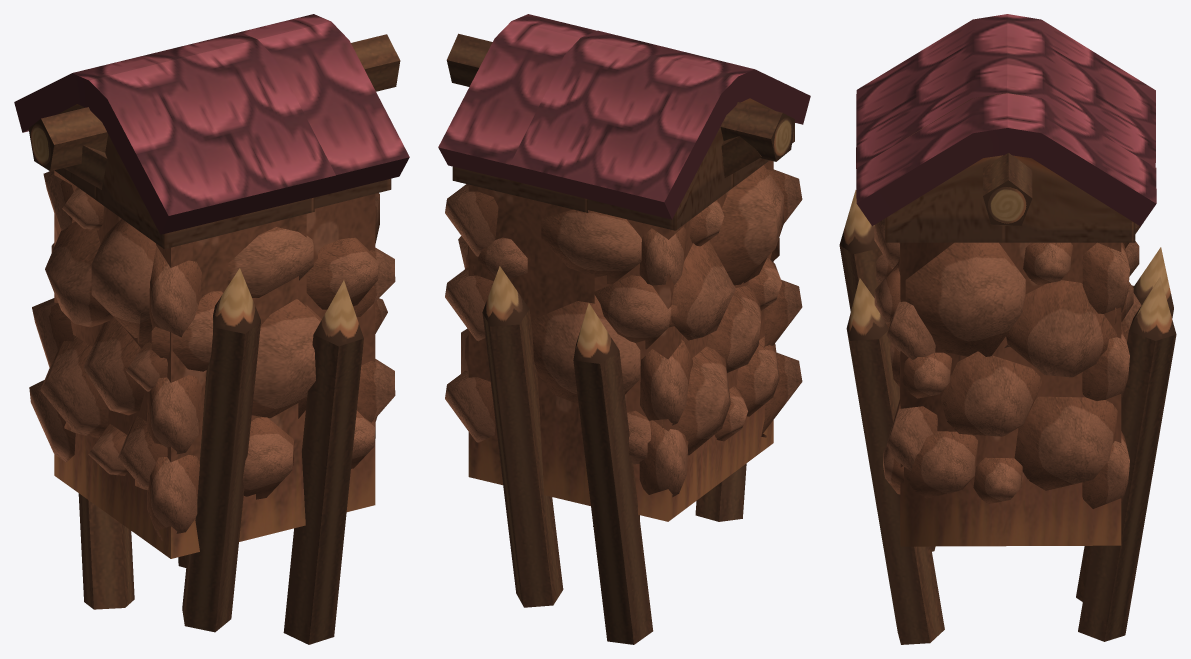
File: lvl3_1x1.fbx
3 renders of one model, left to right at view 1: azimuth 30°, elevation 25°; view 2: azimuth 150°, elevation 25°; view 3: azimuth 270°, elevation 25°, orthographic. The views are drawn at different scales.
Parts seen in each view (by area): view 1: polySurface497; view 2: polySurface497; view 3: polySurface497.
Boxes of the visible parts, bbox=[...] form: polySurface497: bbox=[14, 14, 409, 644]; polySurface497: bbox=[438, 14, 810, 644]; polySurface497: bbox=[839, 14, 1176, 644].
Bounding box in the file's own units: 10.41 × 16.45 × 9.01.
